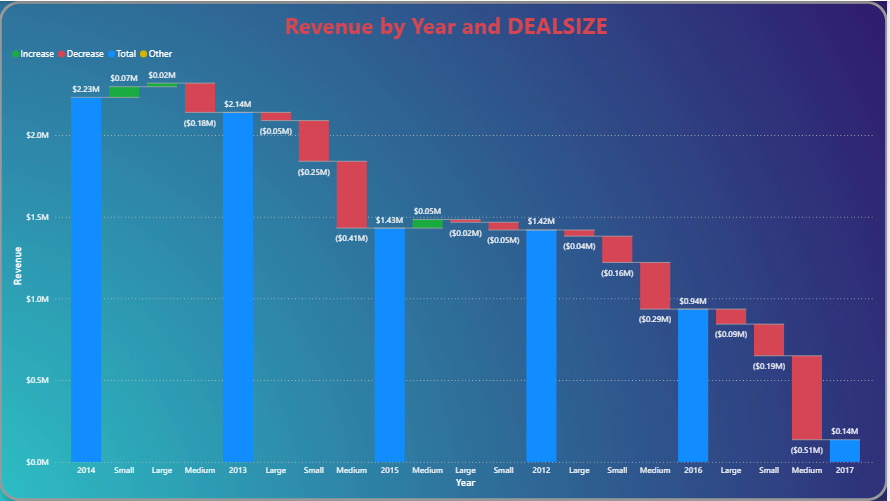

The page's visual inventory and layout, read from the dashboard file:
{"tool":"powerbi","page":{"name":"WaterFall Chart","canvas":[1280,720],"ordinal":14},"visuals":[{"type":"waterfallChart","fields":{"Breakdown":["Vehicle Orders.DEALSIZE"],"Category":["Calendar Table.Year"],"Y":["Measure Table.Revenue"]},"box":[0,0,1280,720],"z":0}]}

Visuals, with their boxes in screenshot pixels (x1, y1, x2, y2), scaled from the page's 1280x720 canvas onto the 890x501 screenshot:
waterfallChart - Vehicle Orders.DEALSIZE x Calendar Table.Year: 0:0:889:500
